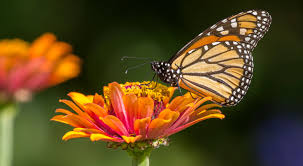butterfly: (121, 6, 268, 88)
flower: (68, 85, 227, 147), (1, 36, 82, 91)
